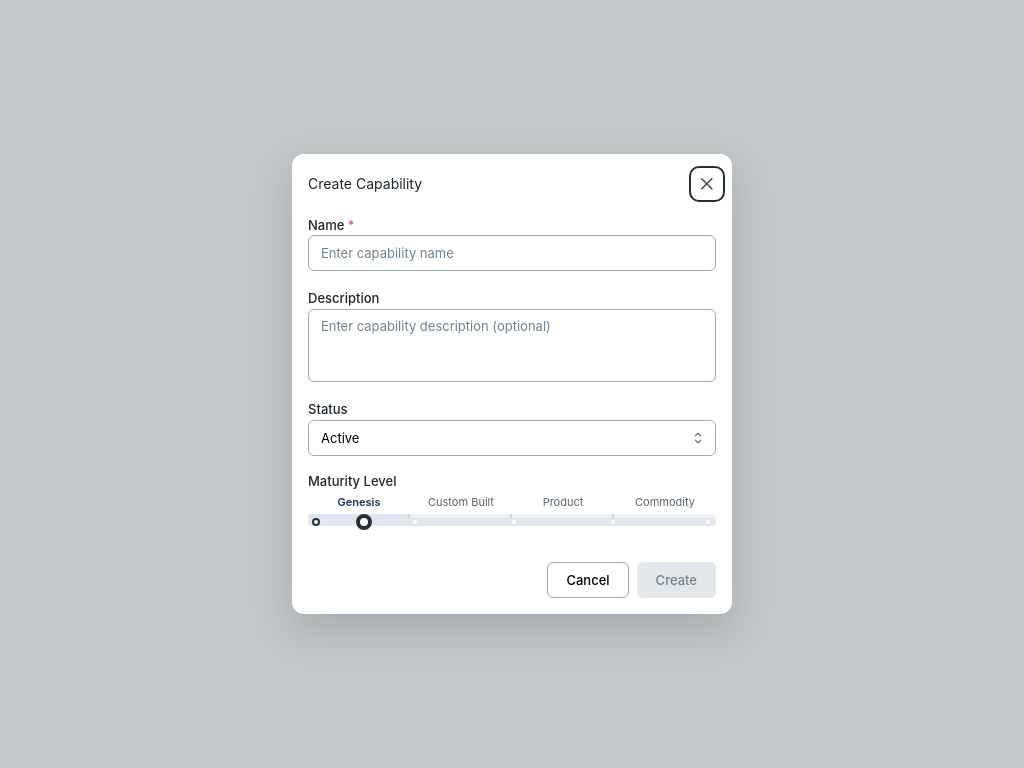
Test: CreateCapabilityDialog › Error handling › should clear error when form is resubmitted
Expected: the element with test id "maturity-slider" is shown, [308,514,716,530]
Type "Test" into the field with test id "capability-name-input". click: (512, 253)
box: [308,235,716,271]
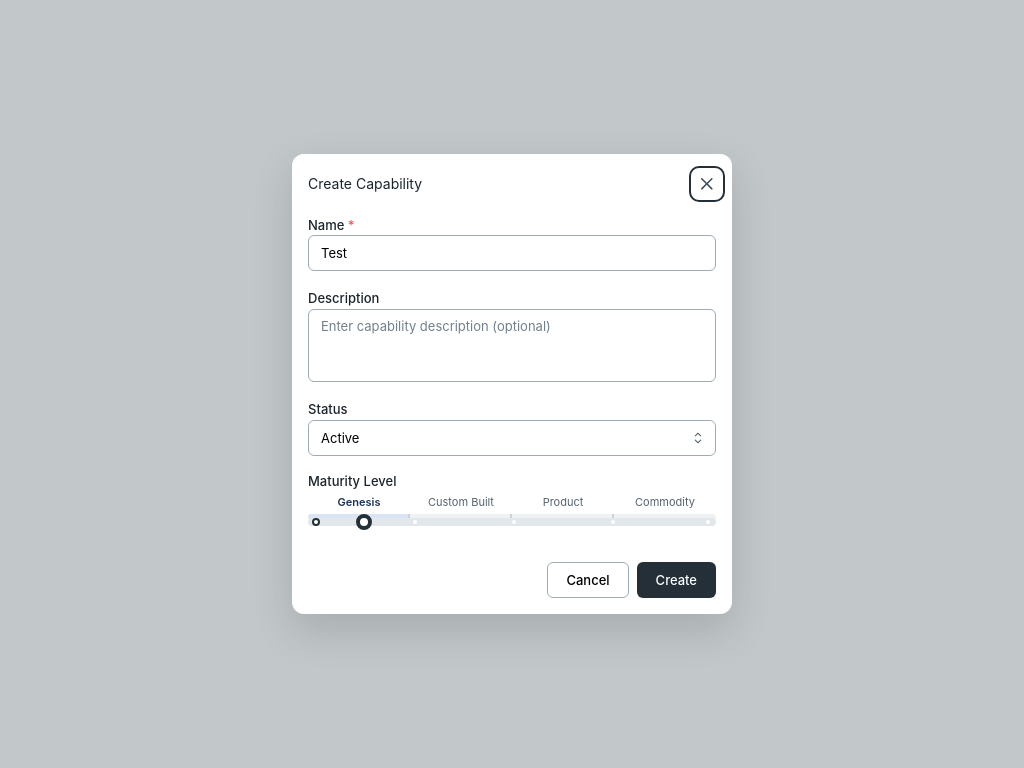
Now the button with test id "create-capability-submit" is enabled
Click the button with test id "create-capability-submit". click: (676, 580)
box: [637,562,716,598]
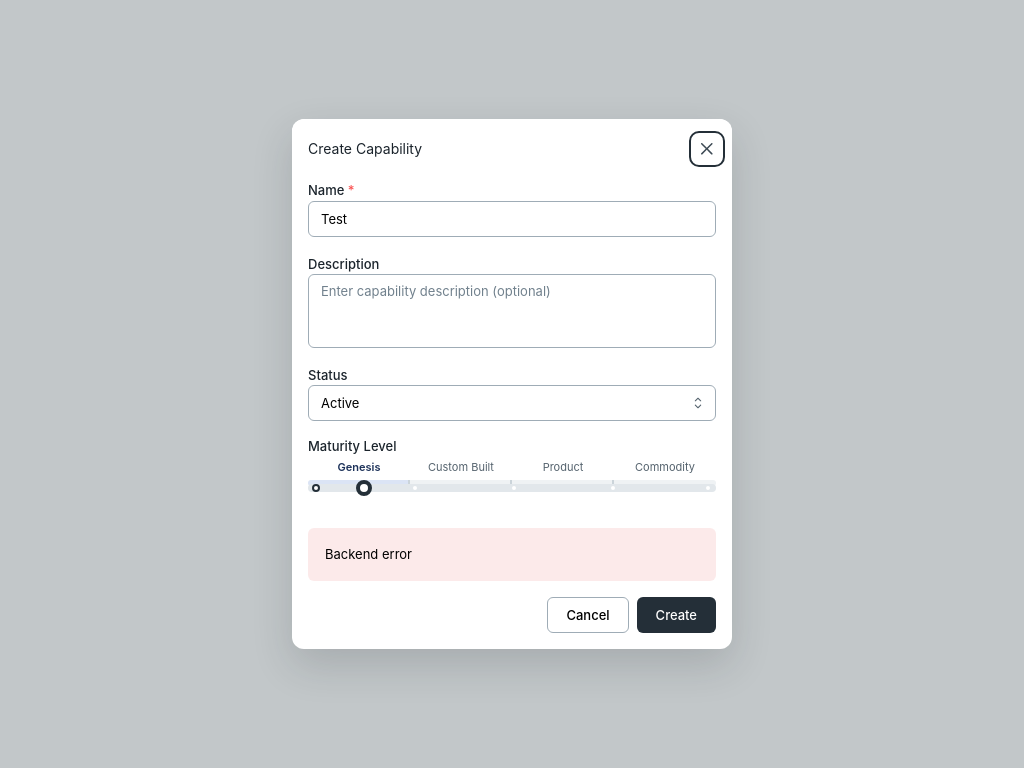
Now the message "Backend error" is shown, box [308,528,716,581]
Replace the text in the field with test id "capability-name-input" with "Changed". click: (512, 219)
box: [308,201,716,237]
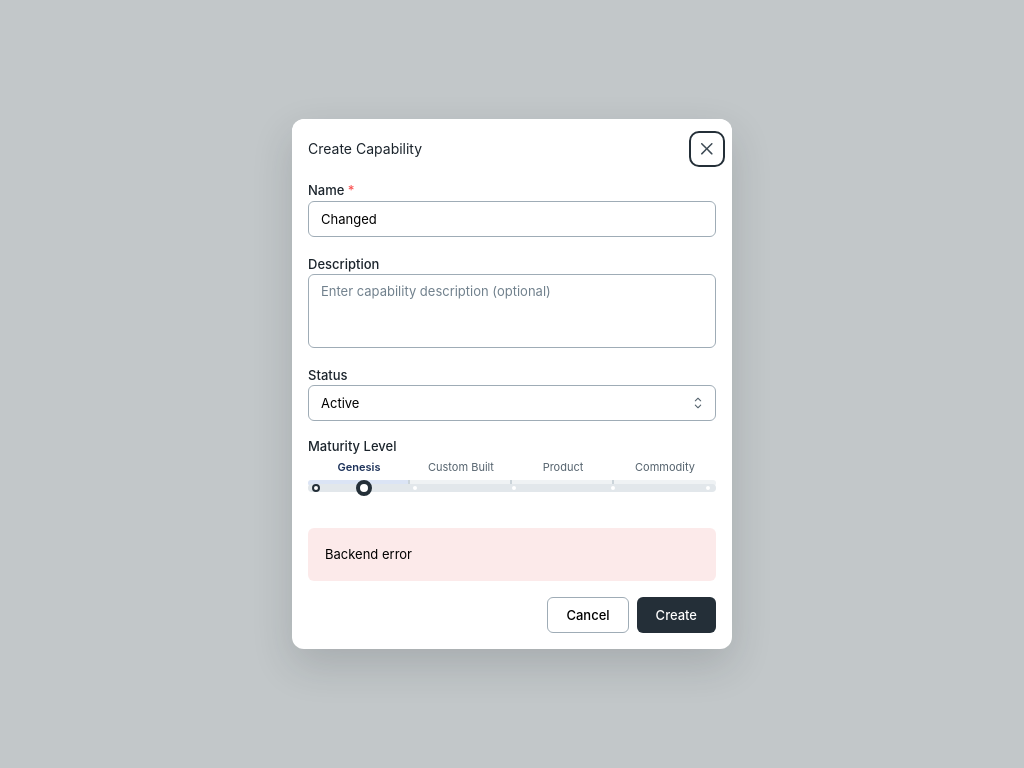
Click the button with test id "create-capability-submit". click: (676, 615)
box: [637,597,716,633]
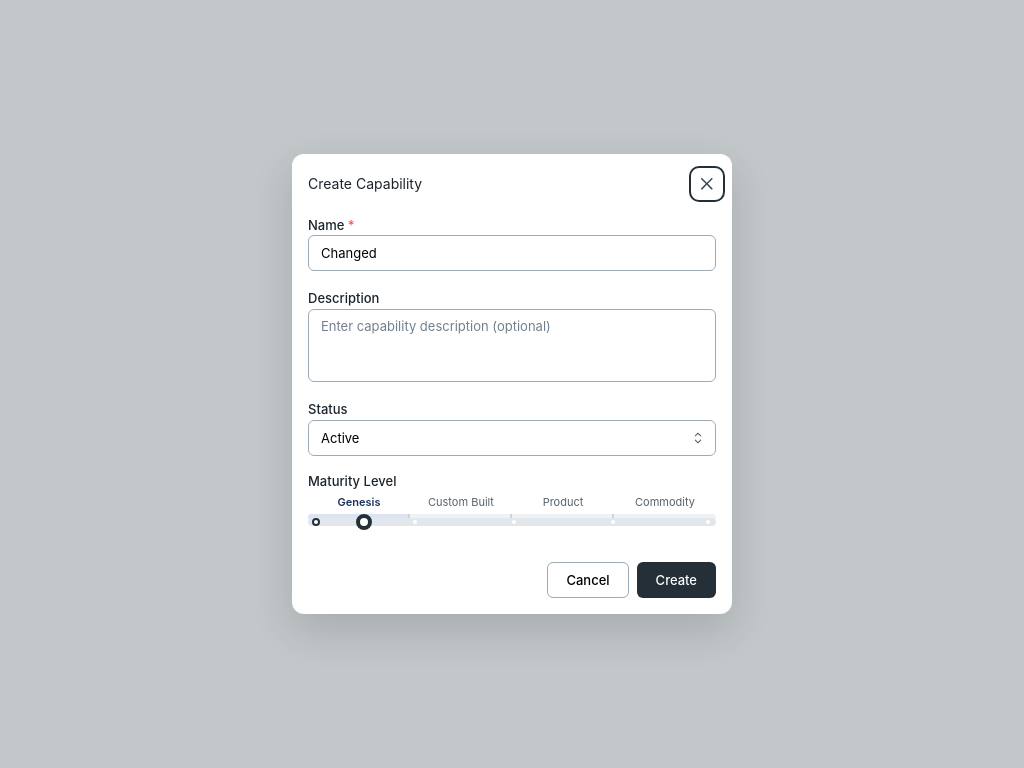
Now the message with test id "create-capability-error" is gone
